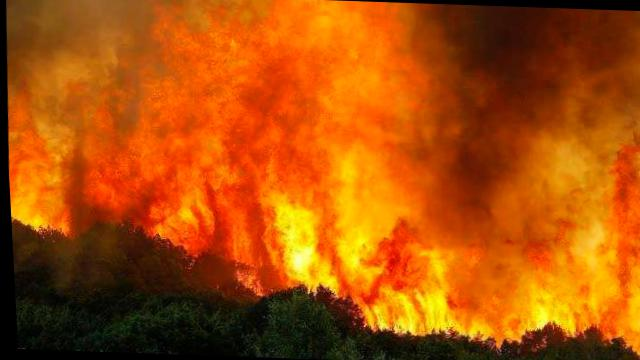fire: (1, 18, 640, 359)
